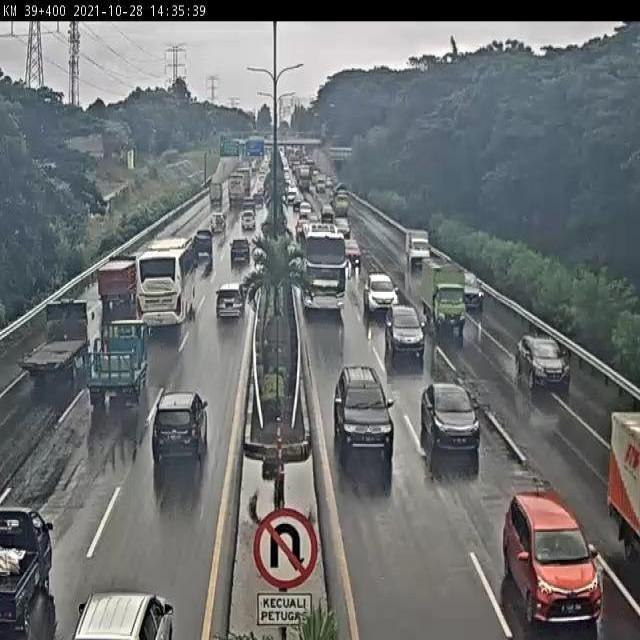big bus: (136, 239, 198, 325), (301, 225, 349, 315)
big truck: (227, 174, 249, 207)
car: (503, 488, 602, 624), (0, 505, 52, 635), (331, 366, 394, 454), (75, 593, 176, 640), (420, 381, 480, 452), (152, 391, 208, 465), (514, 332, 571, 391), (385, 303, 424, 352), (216, 284, 247, 324), (363, 274, 396, 310), (405, 230, 429, 266), (462, 271, 483, 308), (228, 239, 251, 265), (208, 214, 225, 238), (343, 240, 360, 263), (239, 209, 256, 231), (336, 216, 349, 232), (299, 203, 313, 217)
small truck: (20, 300, 92, 380), (86, 320, 148, 405), (608, 408, 640, 559), (420, 258, 466, 330), (97, 256, 137, 309), (193, 229, 211, 259), (332, 182, 349, 210), (208, 185, 222, 208)
